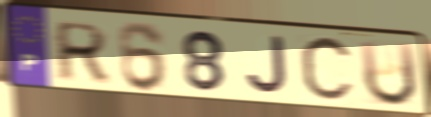6: (117, 20, 170, 95)
8: (181, 28, 229, 94)
C: (297, 33, 356, 107)
J: (243, 34, 291, 98)
R: (54, 20, 111, 83)
U: (357, 38, 421, 109)
